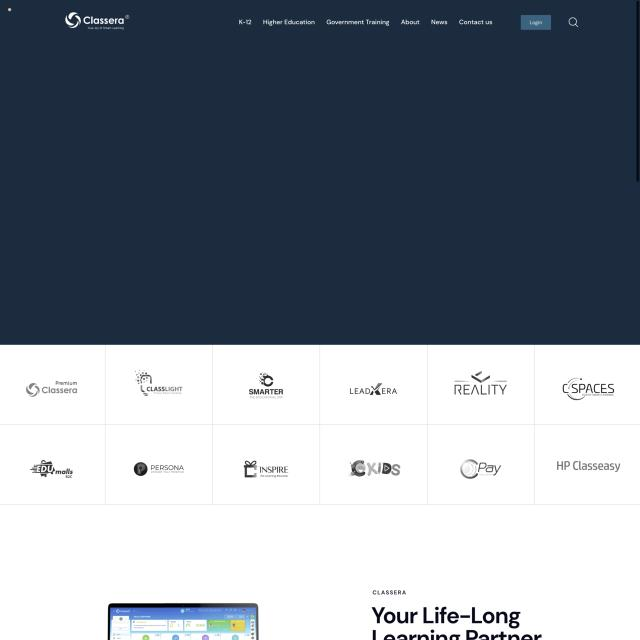logo: (56, 7, 136, 37), (127, 365, 187, 403), (449, 368, 512, 402), (556, 374, 620, 404), (21, 372, 81, 402), (22, 454, 80, 484), (244, 368, 287, 404), (345, 456, 405, 480), (346, 376, 398, 403), (554, 456, 622, 476), (240, 457, 292, 483), (130, 459, 190, 480), (456, 456, 503, 482)
navigation: (232, 16, 496, 31)
